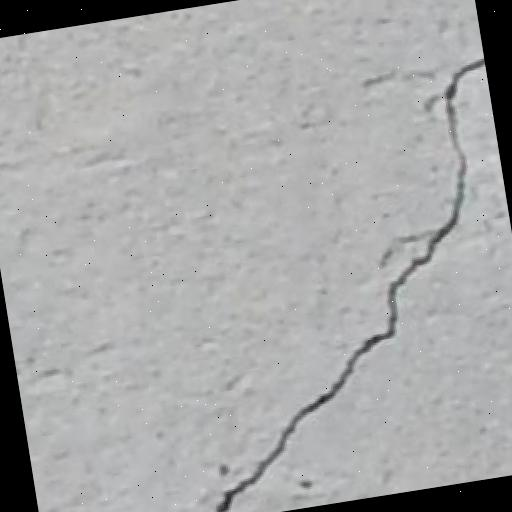spalling: (201, 37, 475, 512)
